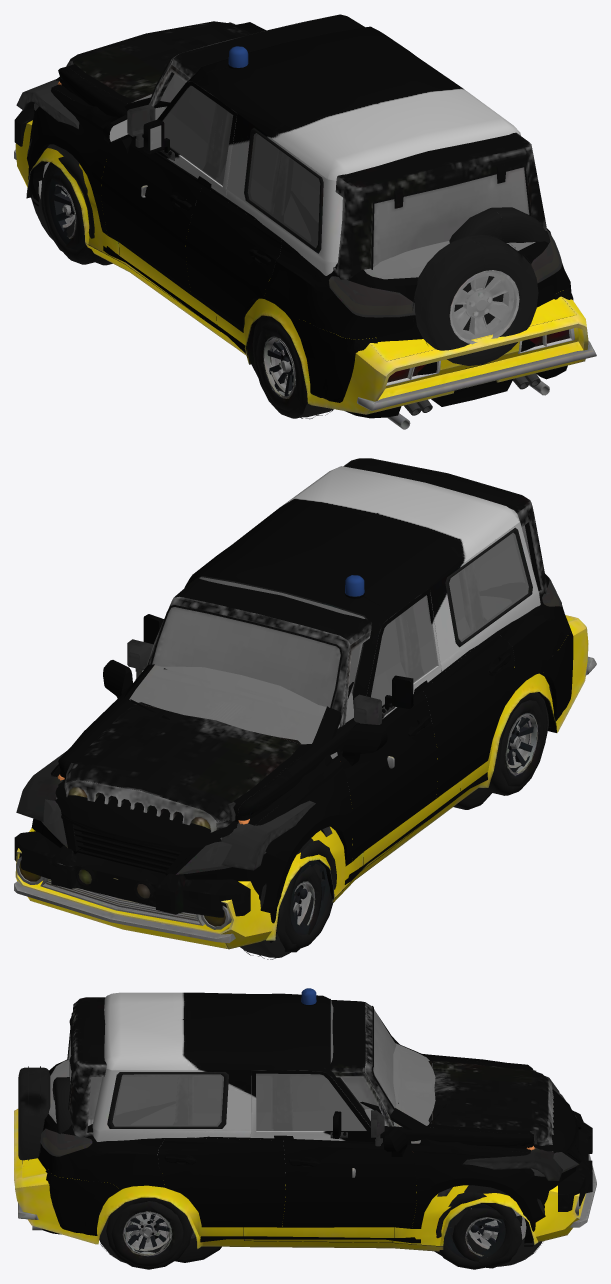
Rendered from autok.glb.
3 renders of one model, top to bottom at view 1: azimuth 30°, elevation 25°; view 2: azimuth 150°, elevation 25°; view 3: azimuth 270°, elevation 25°, orthographic. The views are drawn at different scales.
Parts seen in each view (by area): view 1: Rescue, Crossover, Jeep, Muscle, Crossover_wheel_FL, Muscle_wheel_RL, Crossover_wheel_RL, Muscle_wheel_FL, Jeep_wheel_FL, Jeep_wheel_RL; view 2: Crossover, Jeep, Rescue, Muscle, Crossover_wheel_FL, Muscle_wheel_RL, Crossover_wheel_RL, Muscle_wheel_FL, Jeep_wheel_FL; view 3: Crossover, Rescue, Jeep, Muscle, Crossover_wheel_FR, Muscle_wheel_RR, Crossover_wheel_RR, Muscle_wheel_FR, Jeep_wheel_FR, Jeep_wheel_RR, Rescue_wheel_RR.
Boxes of the visible parts, x1,y1,x2,y2 form: Rescue: (58,22,550,275); Crossover: (27,77,573,418); Jeep: (14,14,546,365); Muscle: (14,120,596,429); Crossover_wheel_FL: (42,156,102,264); Muscle_wheel_RL: (256,323,300,411); Crossover_wheel_RL: (252,315,307,418); Muscle_wheel_FL: (40,175,84,250); Jeep_wheel_FL: (27,139,79,239); Jeep_wheel_RL: (269,347,333,419); Crossover: (31,574,573,942); Jeep: (14,458,552,917); Rescue: (57,466,551,824); Muscle: (14,615,596,949); Crossover_wheel_FL: (282,840,336,948); Muscle_wheel_RL: (500,700,544,786); Crossover_wheel_RL: (486,692,547,795); Muscle_wheel_FL: (276,866,321,952); Jeep_wheel_FL: (240,838,322,959); Crossover: (38,1032,581,1246); Rescue: (52,988,535,1214); Jeep: (18,997,592,1211); Muscle: (14,1109,596,1251); Crossover_wheel_FR: (435,1192,515,1269); Muscle_wheel_RR: (111,1201,183,1268); Crossover_wheel_RR: (106,1197,192,1269); Muscle_wheel_FR: (452,1208,522,1268); Jeep_wheel_FR: (450,1185,544,1266); Jeep_wheel_RR: (99,1212,193,1262); Rescue_wheel_RR: (175,1231,221,1262).
Bounding box in the file's own units: 2.11 × 2 × 4.92.
9 materials, 9 textured.
